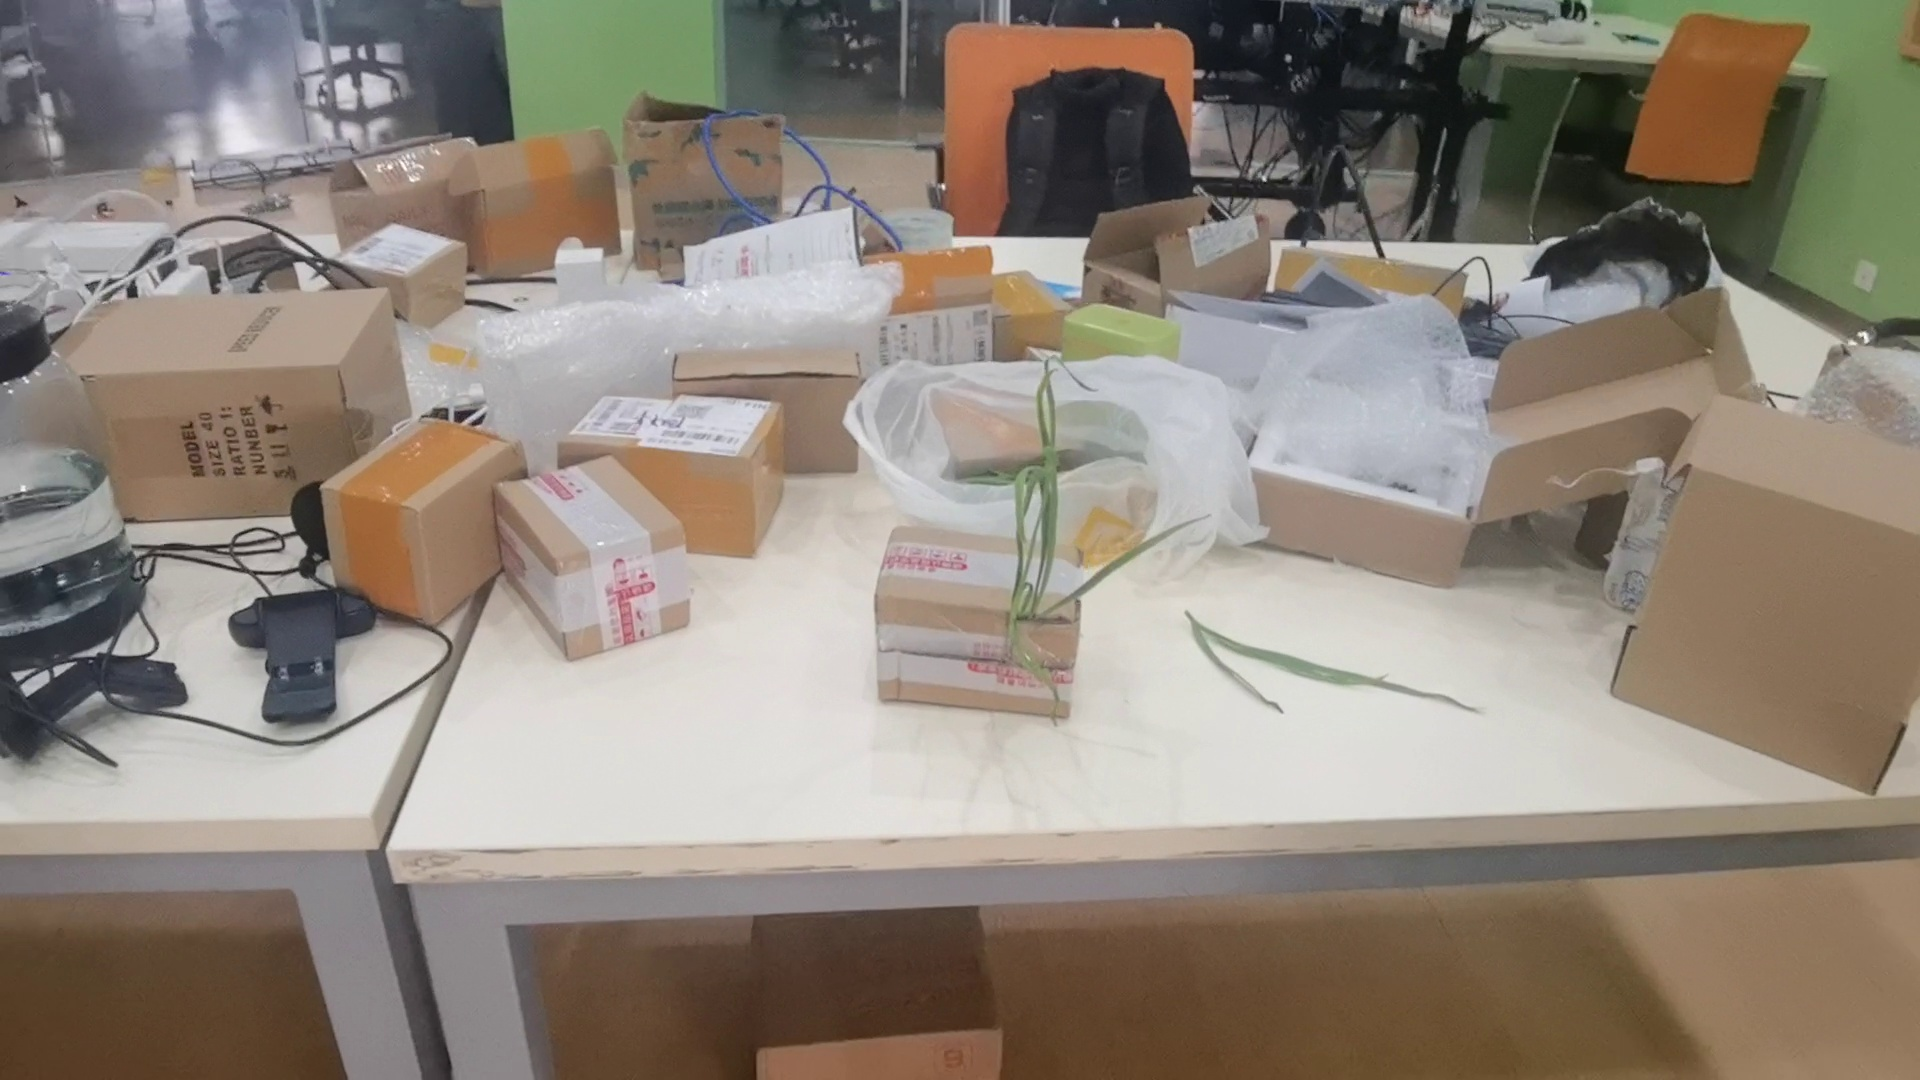chives: (956, 355, 1211, 720), (1167, 604, 1506, 736)
